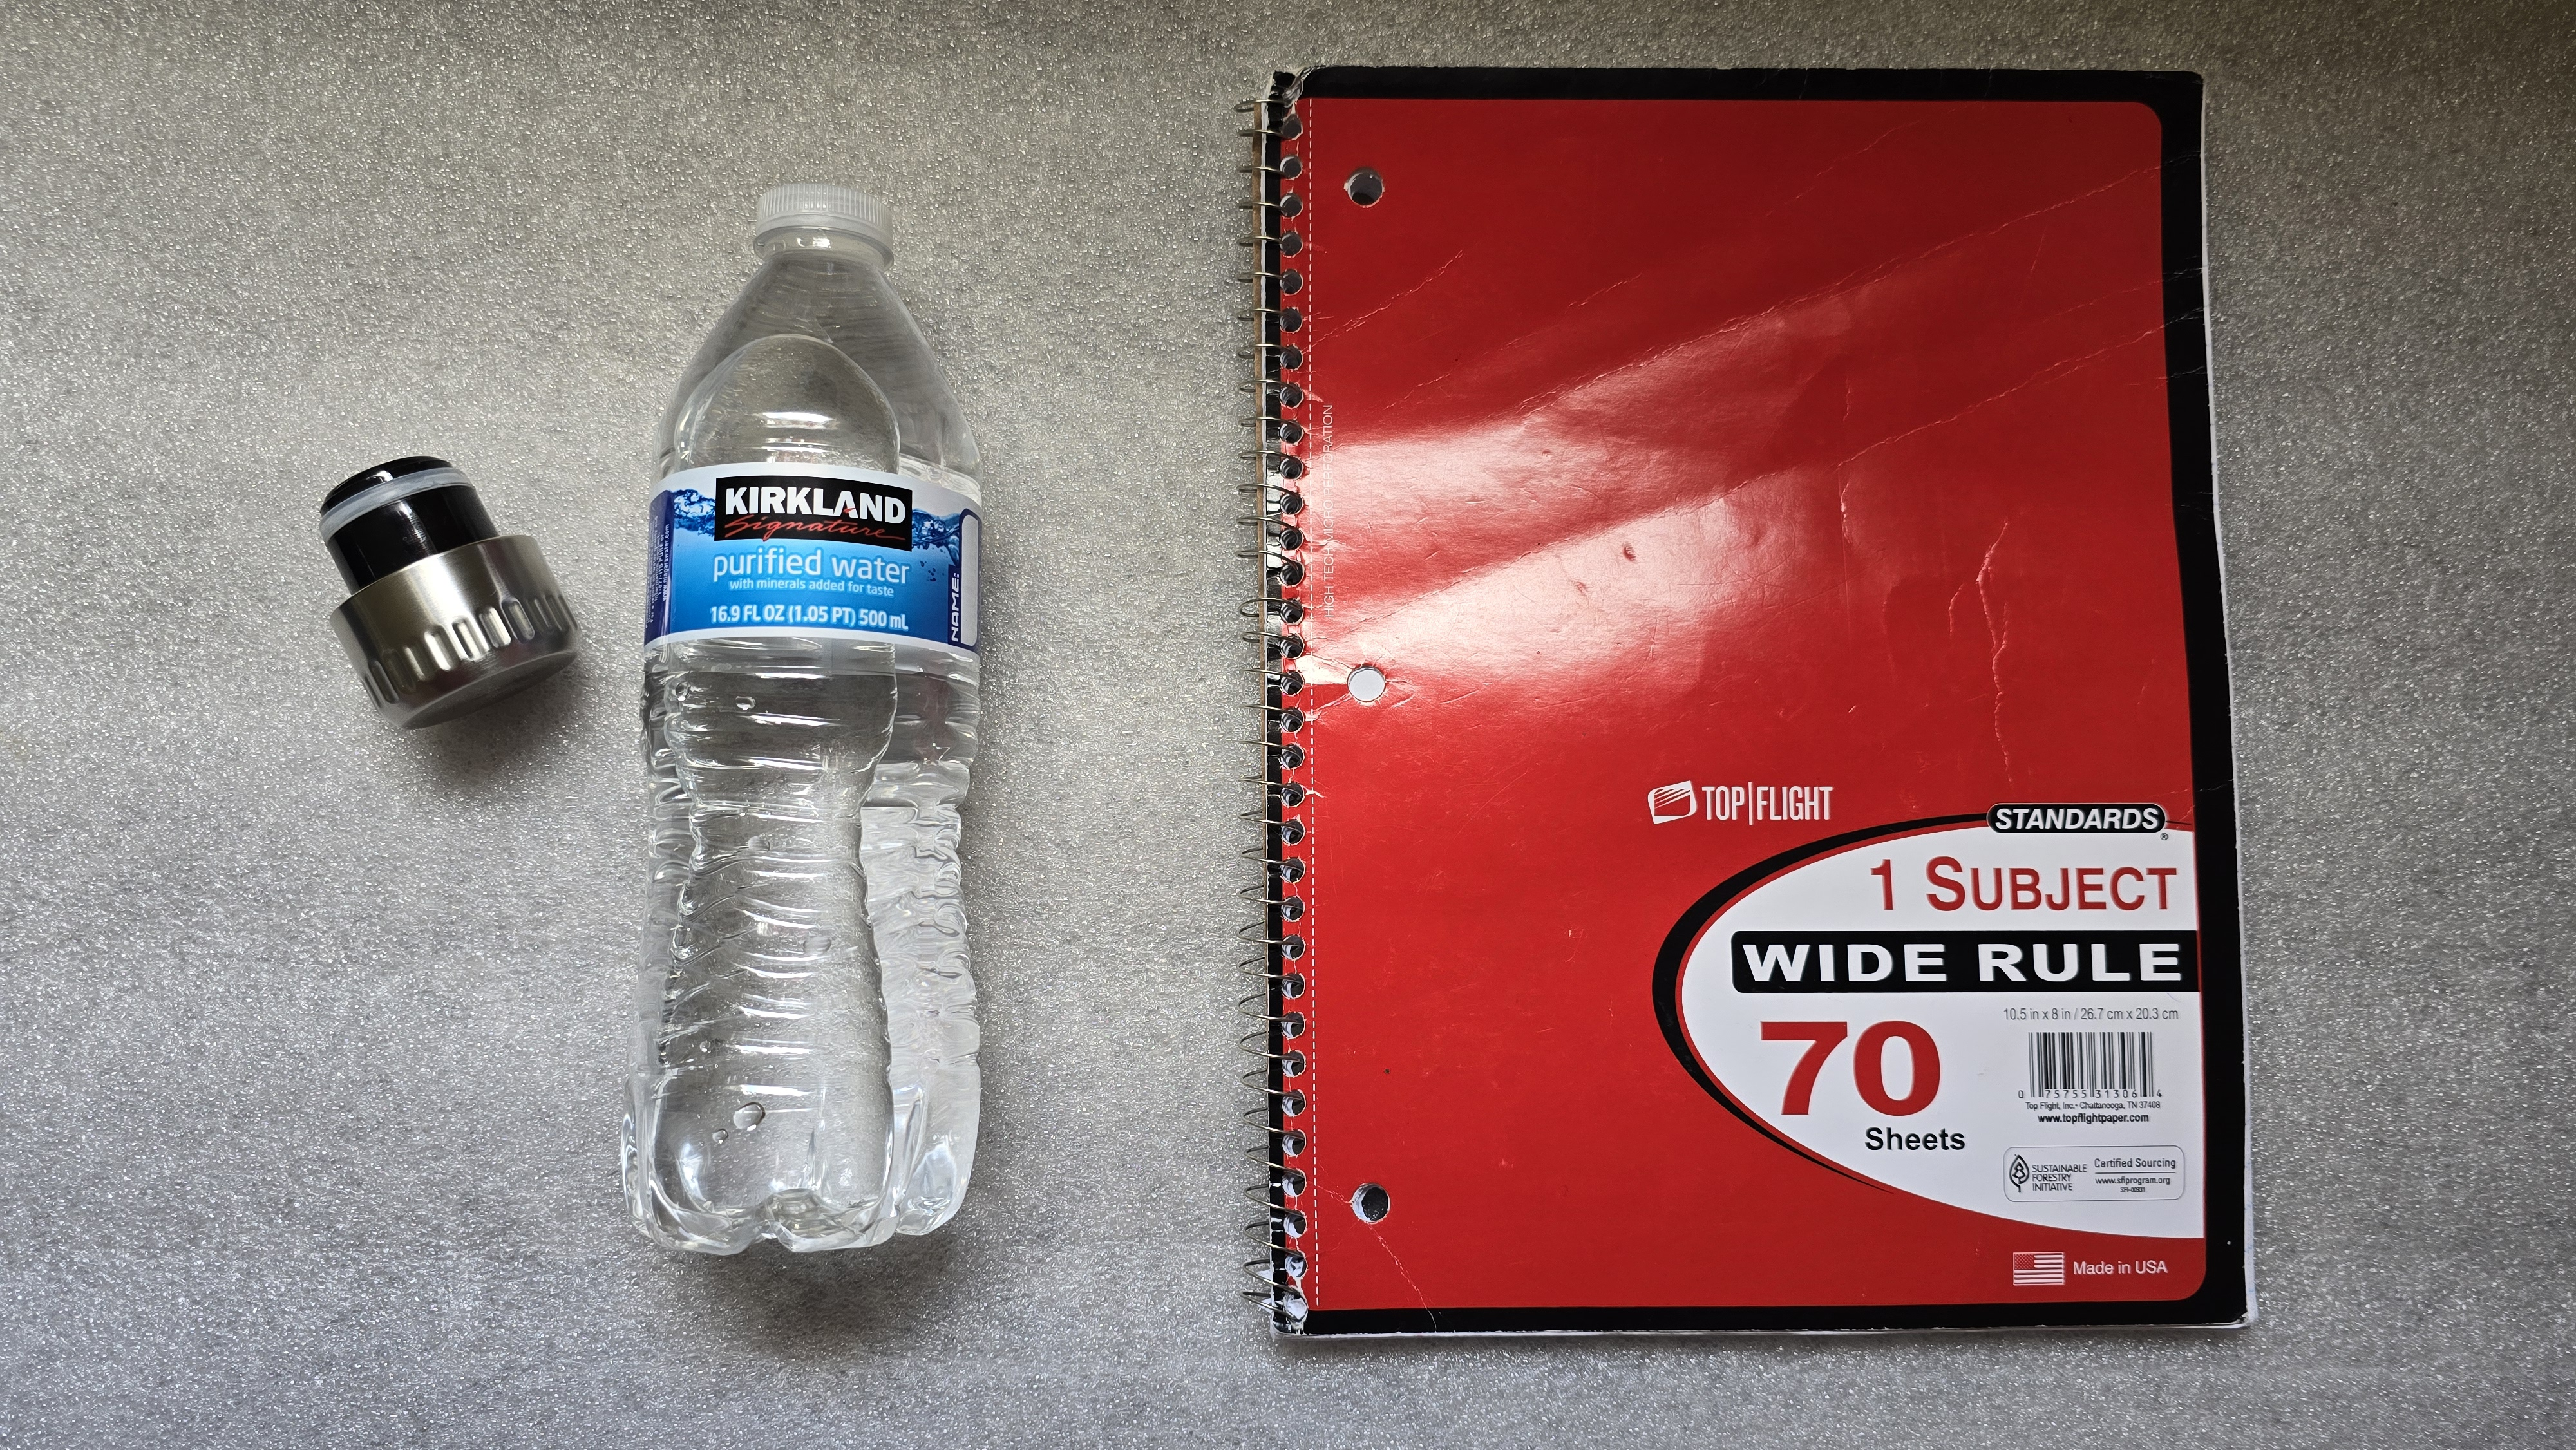bottle: (610, 172, 1007, 1255)
